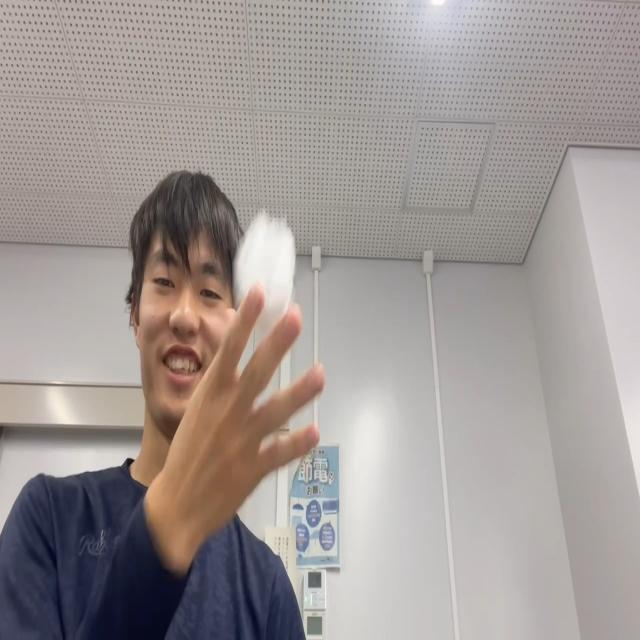paper: (231, 212, 295, 350)
